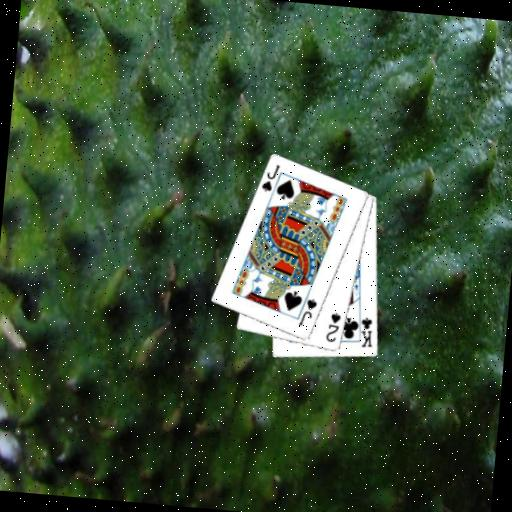2S: (323, 309, 344, 345)
JS: (258, 161, 282, 195), (296, 295, 319, 329)
KC: (353, 312, 377, 350)
